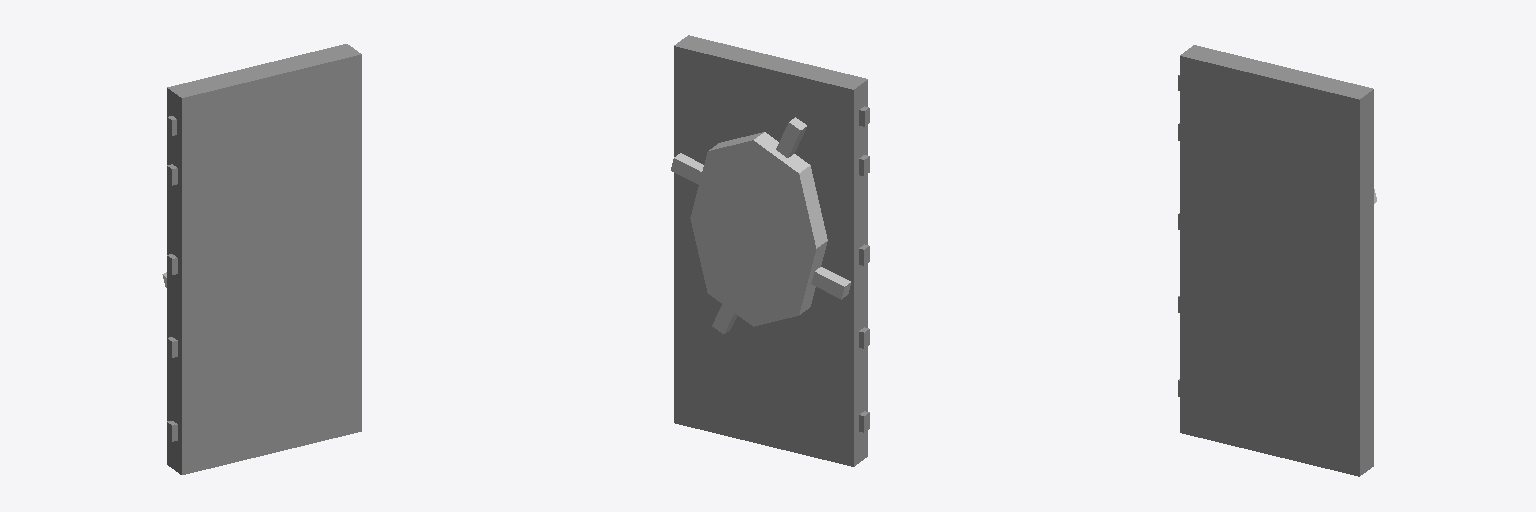
File: vaultdoor.obj
The picture shows the model from 3 angles: view 1: azimuth 30°, elevation 25°; view 2: azimuth 150°, elevation 25°; view 3: azimuth 330°, elevation 25°; orthographic projection.
Visible parts, largest first — view 1: Cube.001; view 2: Cube.001, Cube, Cube.005_Cube.010, Cube.003_Cube.008, Cube.004_Cube.009; view 3: Cube.001.
Boxes of the visible parts, <box> form: Cube.001: <box>167,44,361,474</box>; Cube.001: <box>674,35,869,466</box>; Cube: <box>690,132,827,326</box>; Cube.005_Cube.010: <box>811,267,850,299</box>; Cube.003_Cube.008: <box>776,117,806,157</box>; Cube.004_Cube.009: <box>671,153,703,184</box>; Cube.001: <box>1178,45,1373,476</box>.
Bounding box in the file's own units: 1.03 × 1.99 × 0.2509.